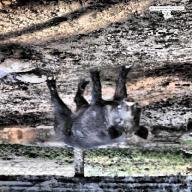boar: (39, 52, 153, 151)
